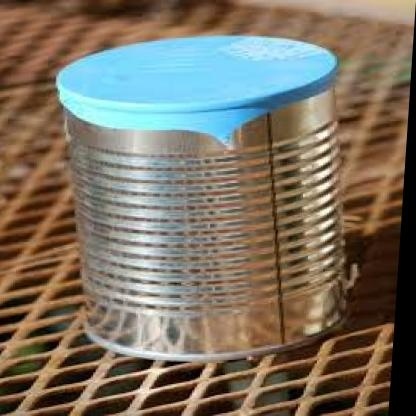trash: (57, 36, 343, 359)
